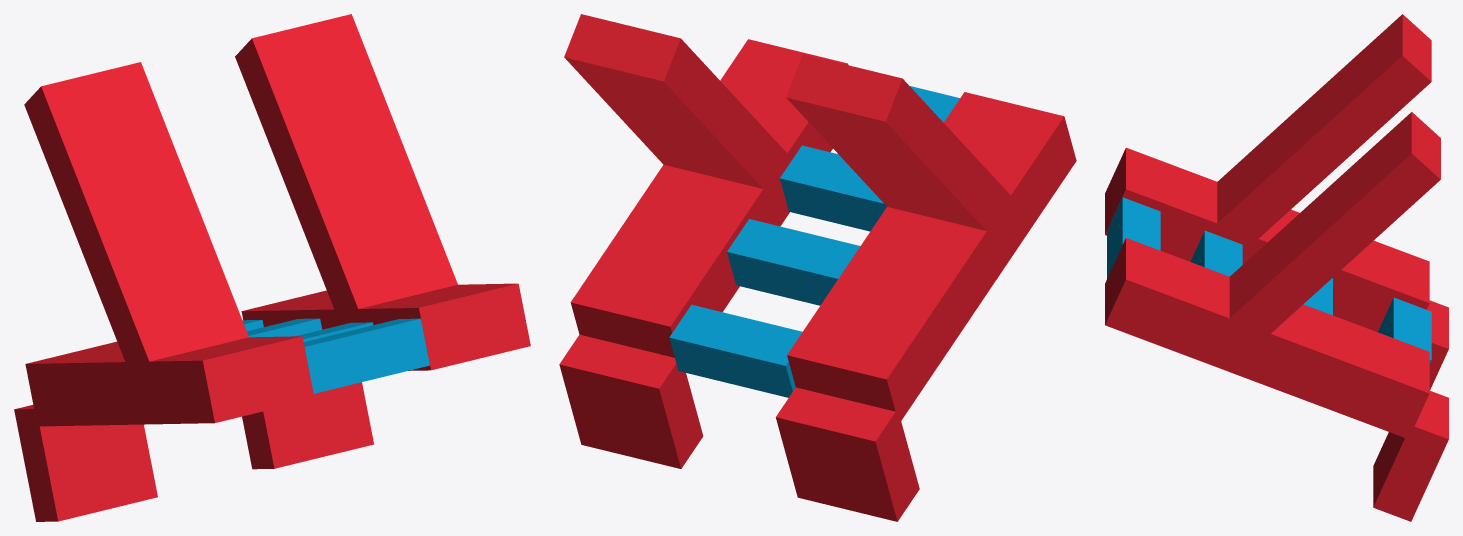
File: tinker.obj
3 views of the same model, side by side, from view 1: azimuth 30°, elevation 25°; view 2: azimuth 150°, elevation 25°; view 3: azimuth 270°, elevation 25° (orthographic). The views are drawn at different scales.
Parts seen in each view (by area): view 1: group_0_15277357, group_0_40919; view 2: group_0_15277357, group_0_40919; view 3: group_0_15277357, group_0_40919.
Boxes of the visible parts, x1,y1,x2,y2 form: group_0_15277357: (14,14,530,521); group_0_40919: (242,318,429,393); group_0_15277357: (559,14,1076,521); group_0_40919: (669,86,959,397); group_0_15277357: (1105,14,1448,521); group_0_40919: (1107,197,1431,363).
Size of the model in its own units: 38 by 50.5 by 41.86.
